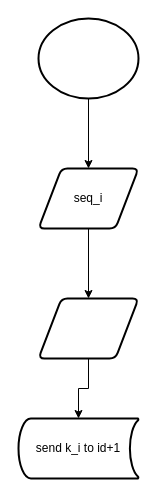
Some shapes in this 156 by 496 pixel diagram are drawn without their labels. The shapes that lost their labels are listed below. From the top down, each one's box as (x1, y1, x2, y2) in pixels, then its label:
(37, 17, 139, 99): id
(37, 297, 139, 359): k_i
